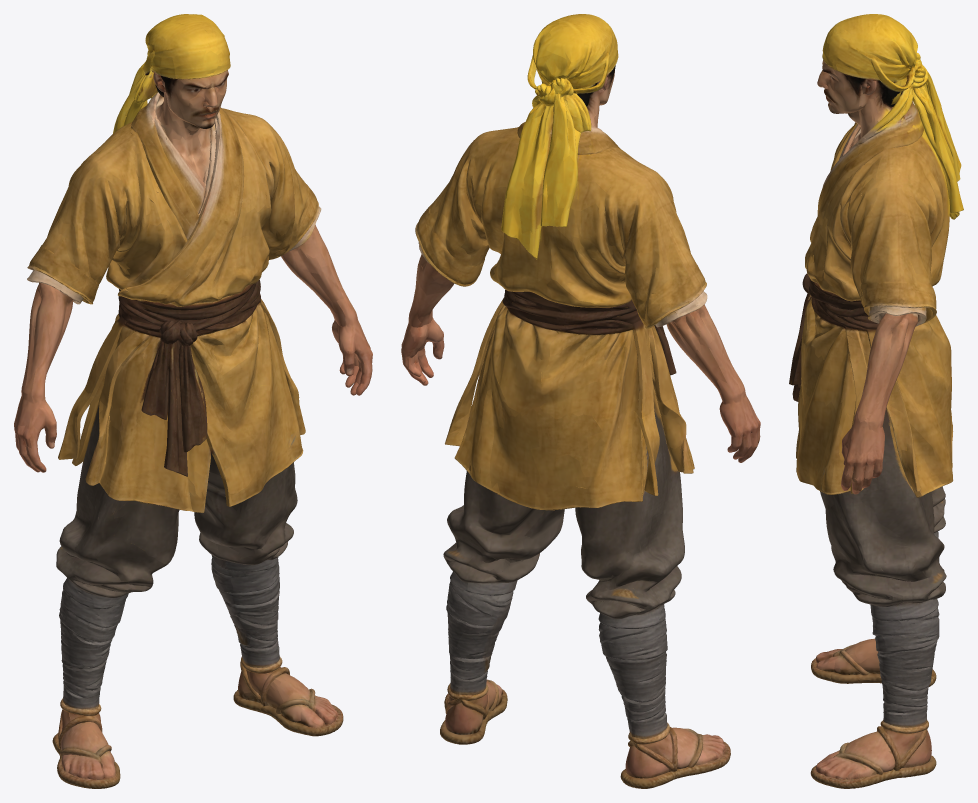
File: glb.glb
3 views of the same model, side by side, from view 1: azimuth 30°, elevation 25°; view 2: azimuth 150°, elevation 25°; view 3: azimuth 270°, elevation 25° (orthographic). The views are drawn at different scales.
Bounding box in the file's own units: 0.9712 × 1.9 × 0.4258.
1 material, 1 textured.
